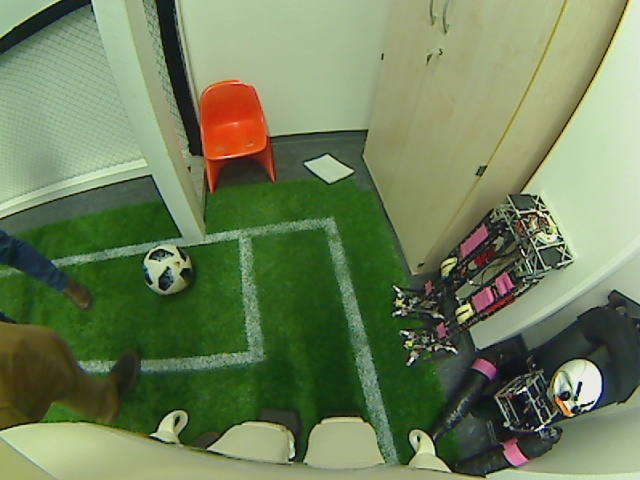ball: (141, 241, 191, 295)
